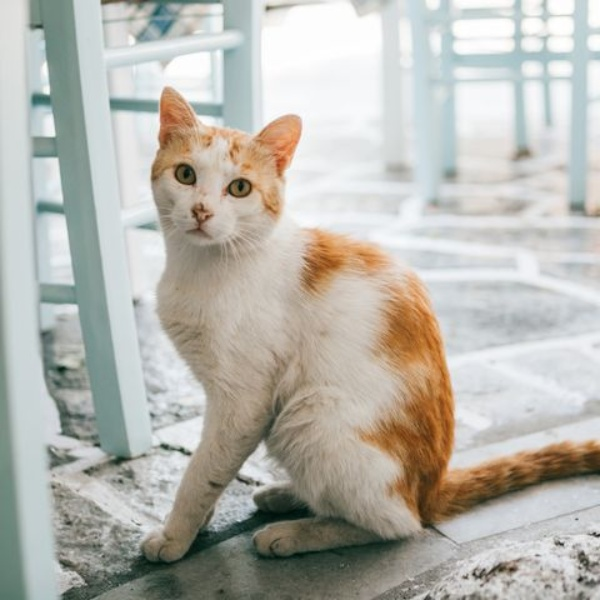dog: (96, 78, 600, 566)
